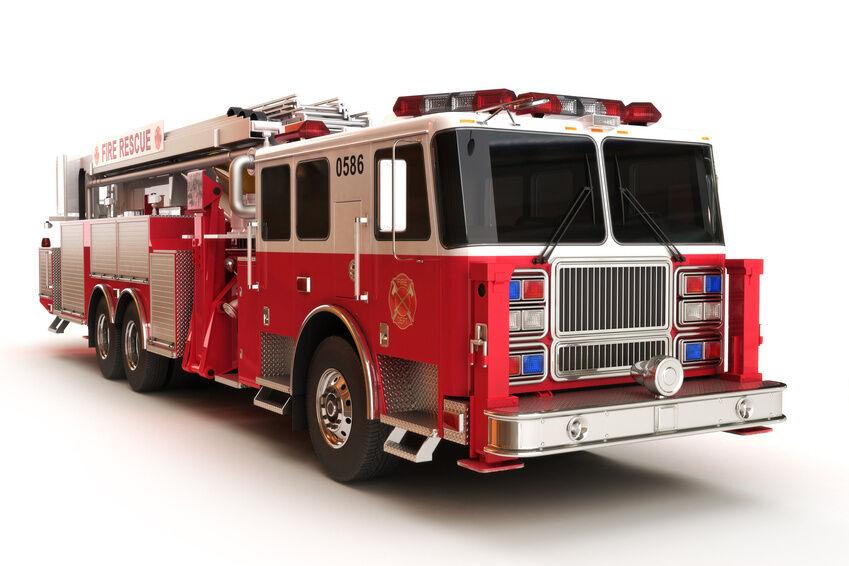Fire-engine: (37, 87, 787, 483)
